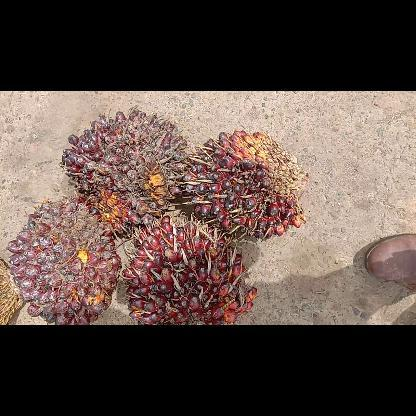Kurang masak: (60, 106, 186, 236), (122, 210, 260, 324)
TBS mentah: (5, 196, 123, 324), (182, 129, 310, 241)
